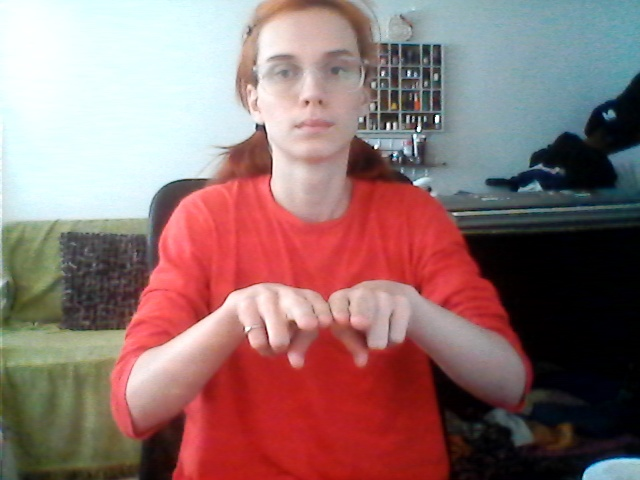brat: (235, 269, 419, 375)
